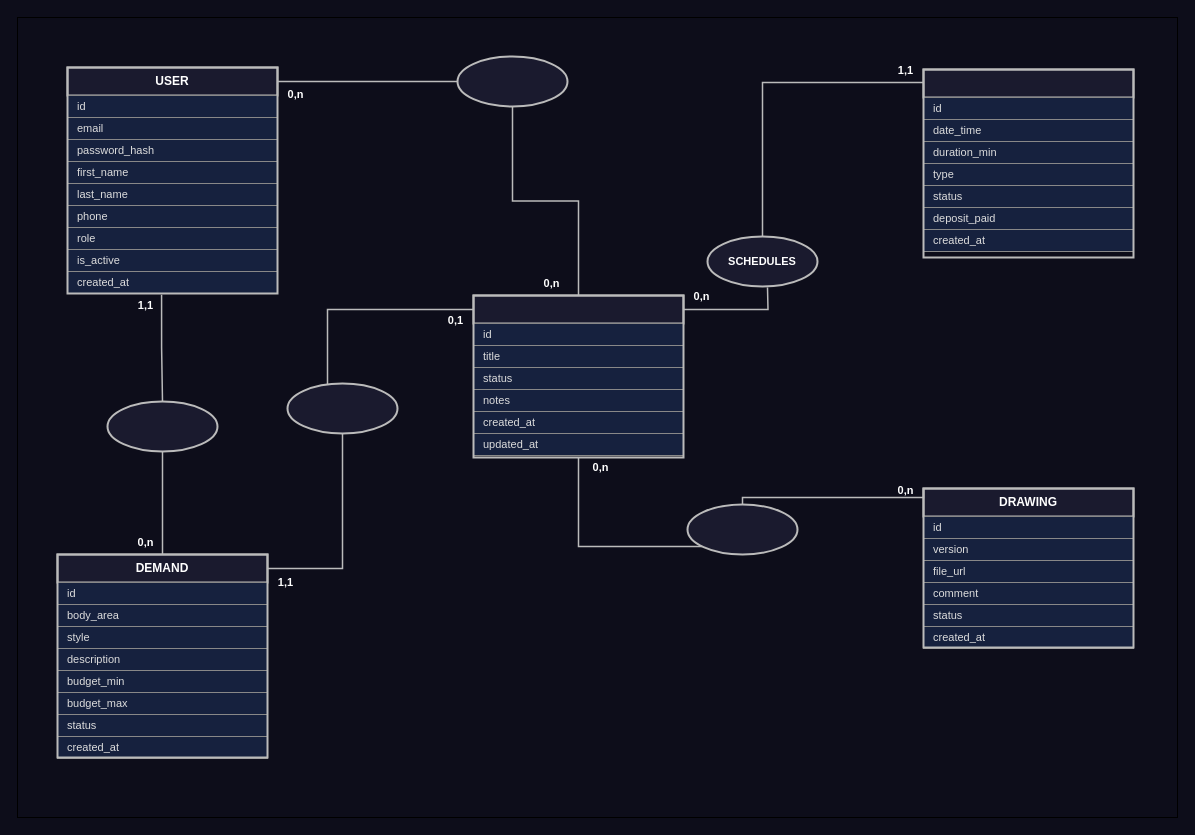
Some shapes in this 1195 by 835 pixel diagram are drawn without their labels. The centre of each missing label's shape, as x and y in pixels:
"APPOINTMENT" goes at (x=1028, y=83).
"CONTAINS" goes at (x=742, y=529).
"GENERATES" goes at (x=342, y=408).
"MANAGES" goes at (x=512, y=81).
"PROJECT" goes at (x=578, y=309).
"SENDS" goes at (x=162, y=426).
